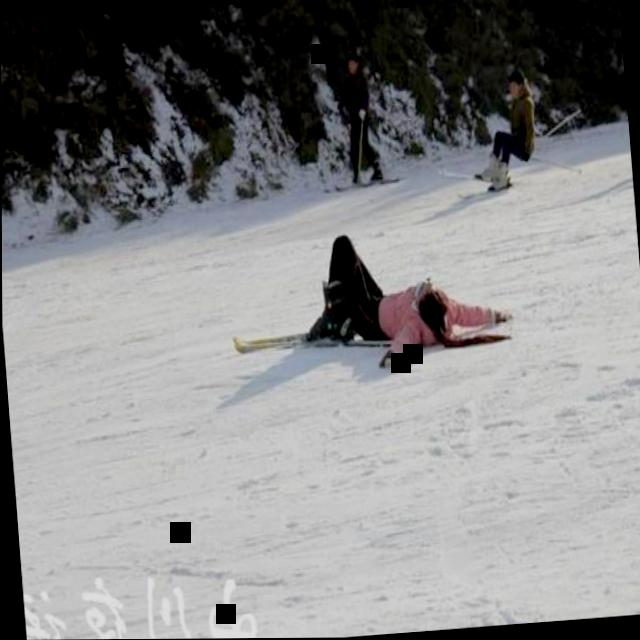Fall-Detected: (463, 51, 551, 198)
